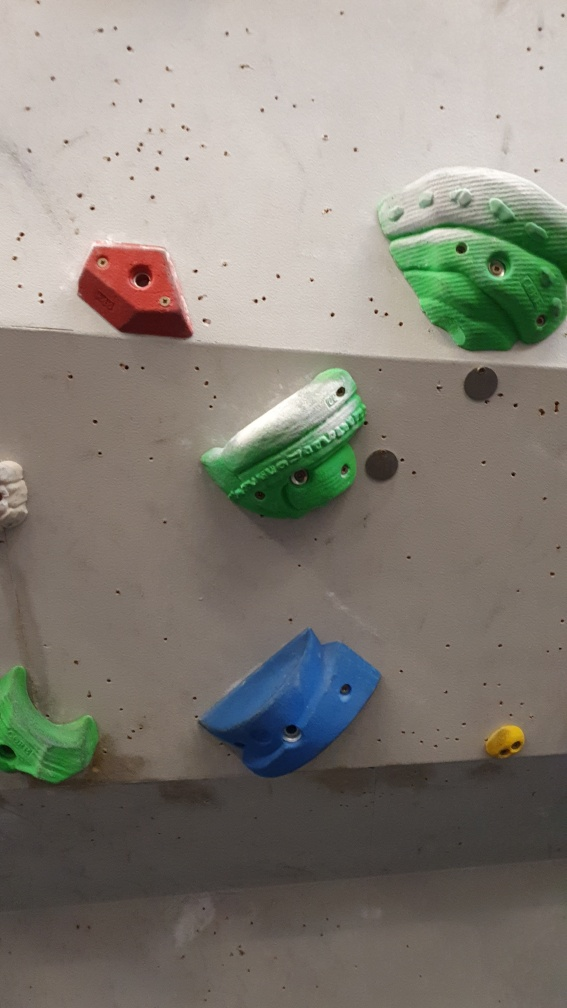Crimp: (72, 236, 206, 347)
Hand Start: (358, 442, 408, 485), (461, 363, 508, 405)
Jug: (371, 161, 567, 361), (194, 362, 369, 522), (1, 660, 113, 797)
Pinch: (192, 623, 383, 776)
